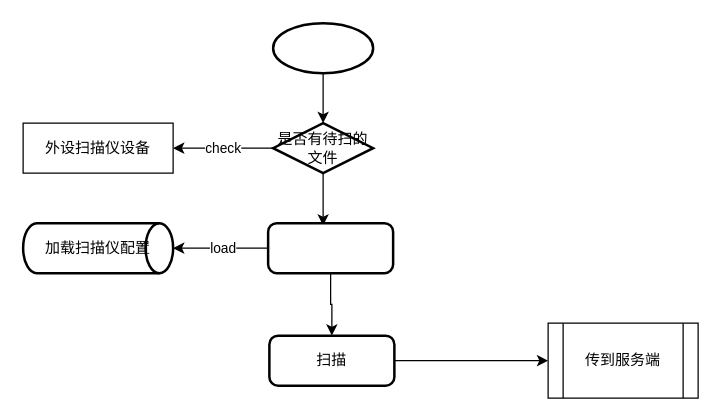
Image size: 720x420. Some labels were removed from this diagram. Here are the shapes that lost their labels. From the top down, the centre of each, then its label:
At pixel 322 47: "start".
At pixel 330 247: "唤起dll".
